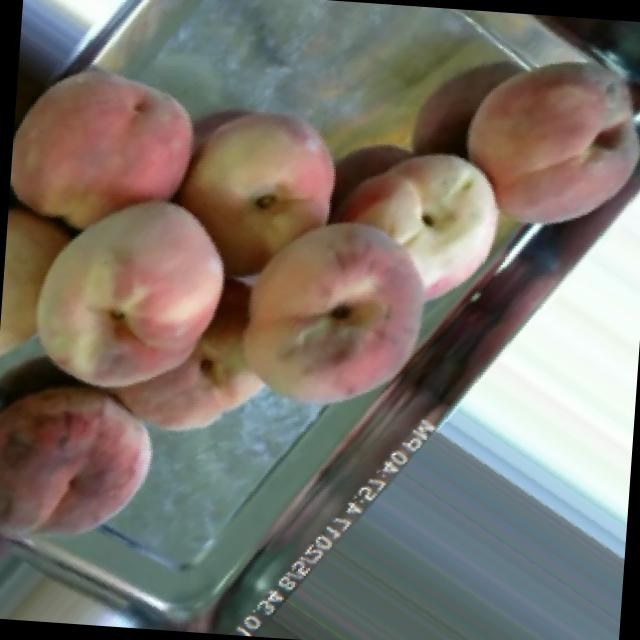Fruit: (216, 184, 458, 433), (0, 165, 253, 403), (428, 16, 640, 266), (151, 76, 368, 306), (5, 39, 225, 263), (330, 119, 527, 331), (0, 375, 172, 575)
